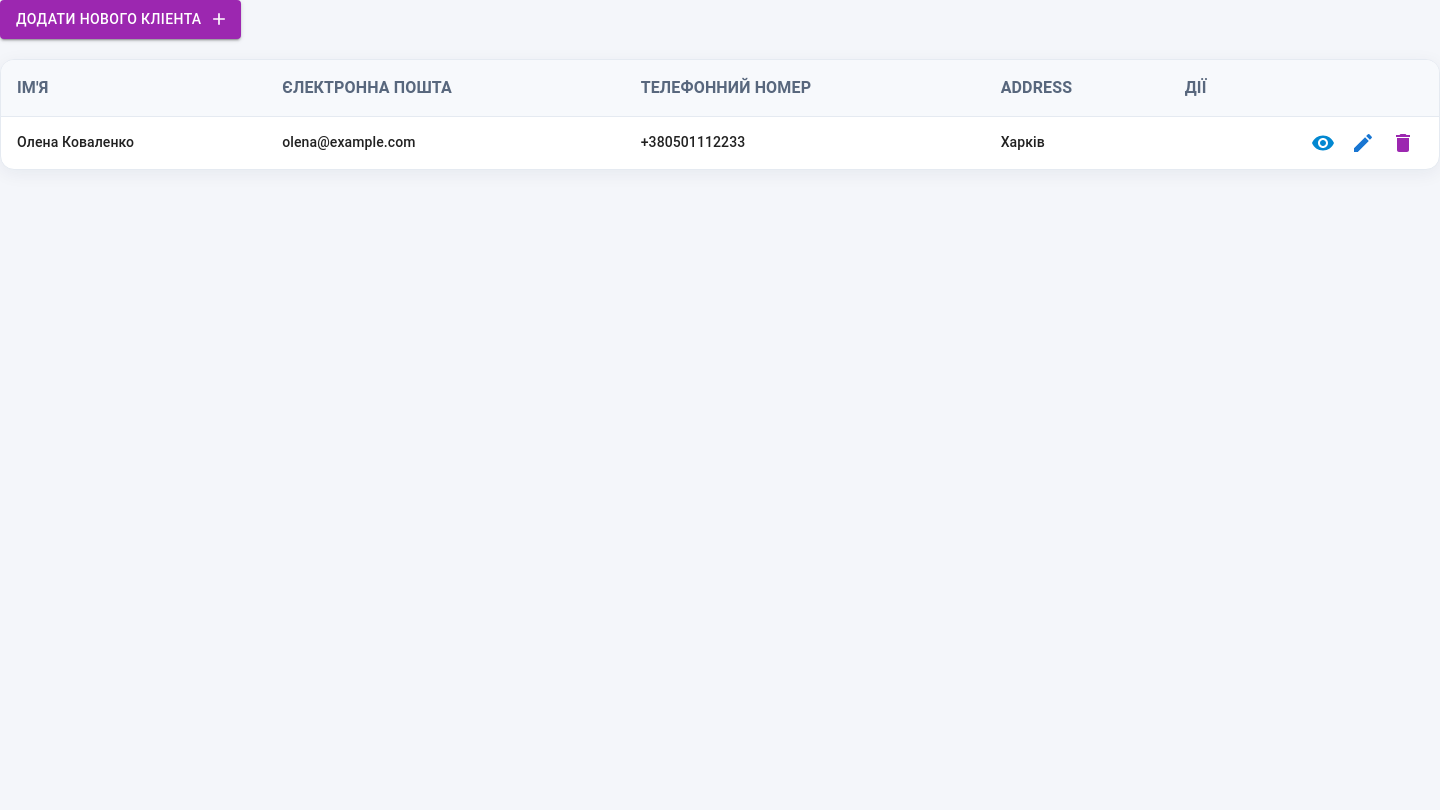
Test: CustomerPage CRUD integration › closes the edit dialog after a successful update and warns when list refresh fails
Click the button named "Редагувати".
click(1363, 142)  # box [1343, 122, 1383, 162]
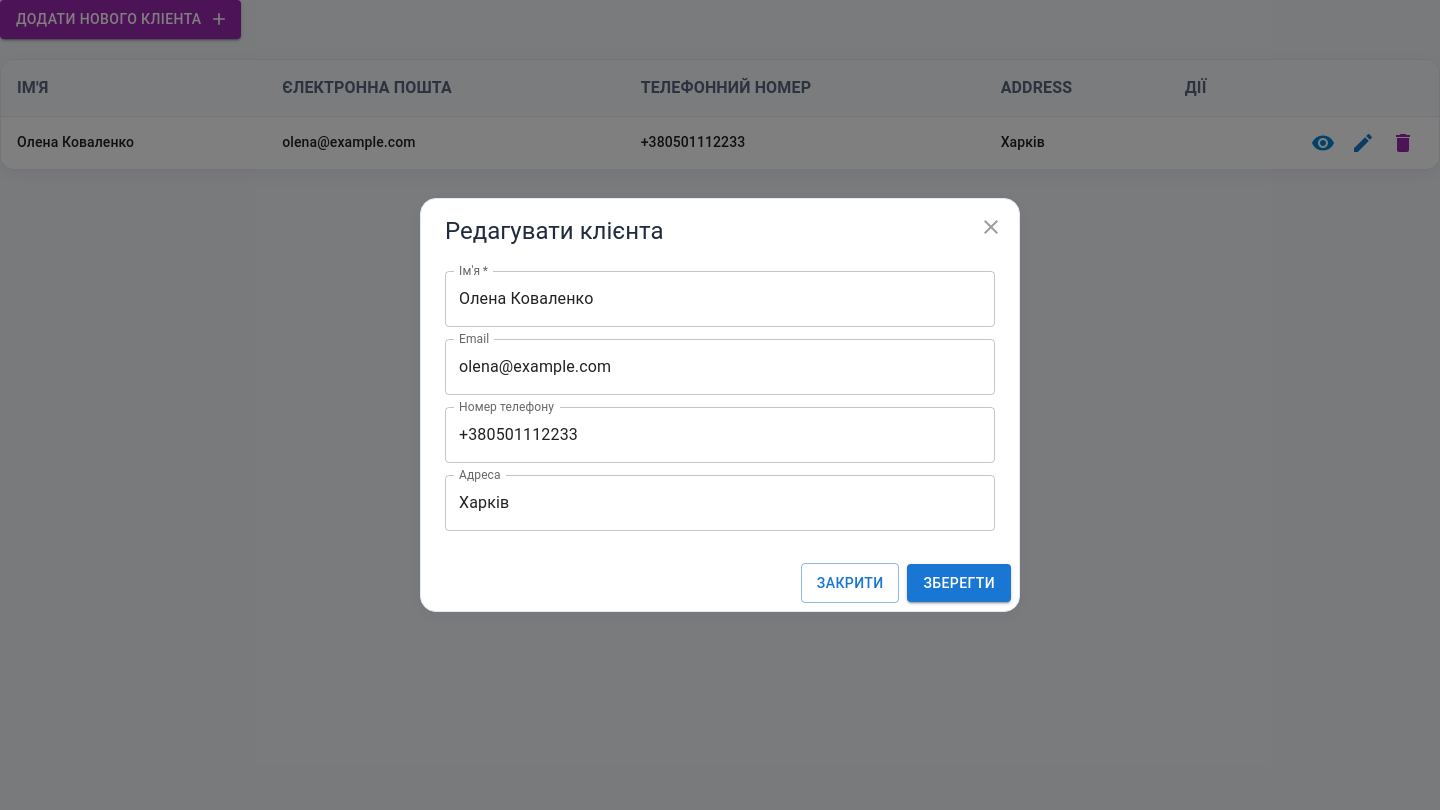
Click the button "Зберегти".
click(959, 583)  # box [908, 564, 1011, 602]
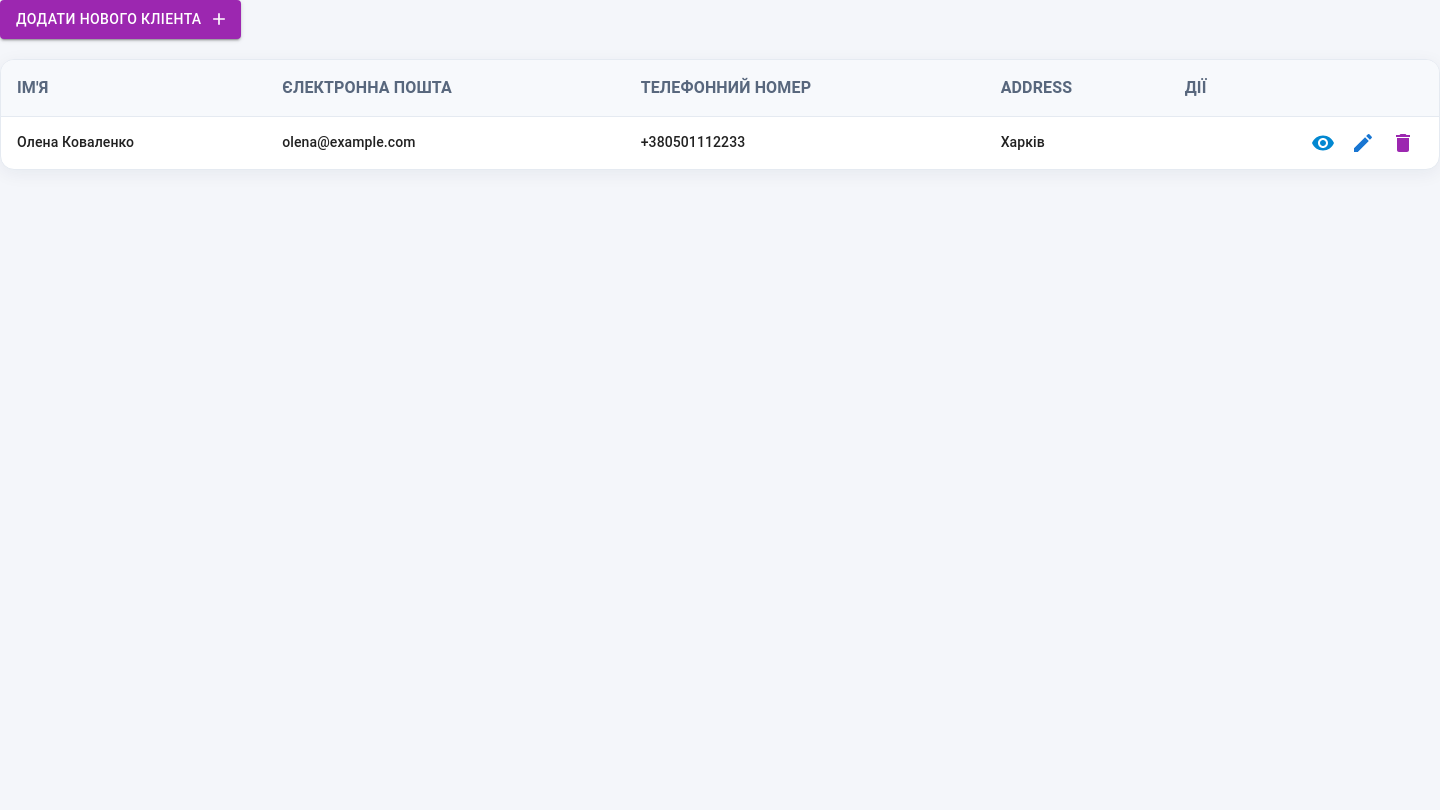
Now the dialog is gone
